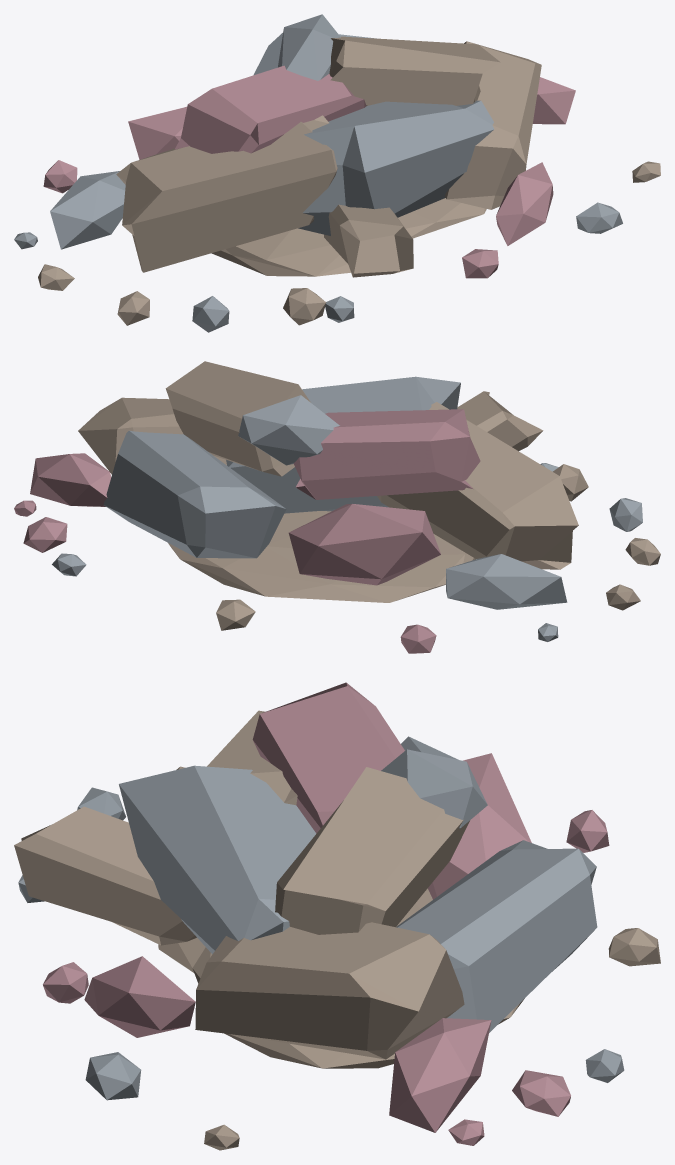
File: mdma_crystals.glb
The picture shows the model from 3 angles, top to bottom: view 1: azimuth 30°, elevation 25°; view 2: azimuth 150°, elevation 25°; view 3: azimuth 270°, elevation 25°; orthographic projection. The views are drawn at different scales.
Visible parts, largest first — view 1: CrystalPile, CrystalChunk_A, CrystalGranules, CrystalChunk_B; view 2: CrystalPile, CrystalChunk_A, CrystalGranules, CrystalChunk_B; view 3: CrystalPile, CrystalChunk_A, CrystalGranules, CrystalChunk_B.
Part boxes in pixels (left/top/right/bottom): CrystalPile: left=50, top=33, right=575, bottom=277; CrystalChunk_A: left=329, top=36, right=500, bottom=105; CrystalGranules: left=14, top=160, right=660, bottom=332; CrystalChunk_B: left=278, top=14, right=340, bottom=80; CrystalPile: left=30, top=376, right=578, bottom=609; CrystalChunk_A: left=165, top=361, right=310, bottom=476; CrystalGranules: left=14, top=463, right=660, bottom=653; CrystalChunk_B: left=238, top=395, right=339, bottom=465; CrystalPile: left=14, top=682, right=597, bottom=1132; CrystalChunk_A: left=275, top=767, right=469, bottom=934; CrystalGranules: left=18, top=766, right=660, bottom=1150; CrystalChunk_B: left=381, top=749, right=487, bottom=828.
Size of the model in its own units: 0.0999 by 0.0284 by 0.0707.
